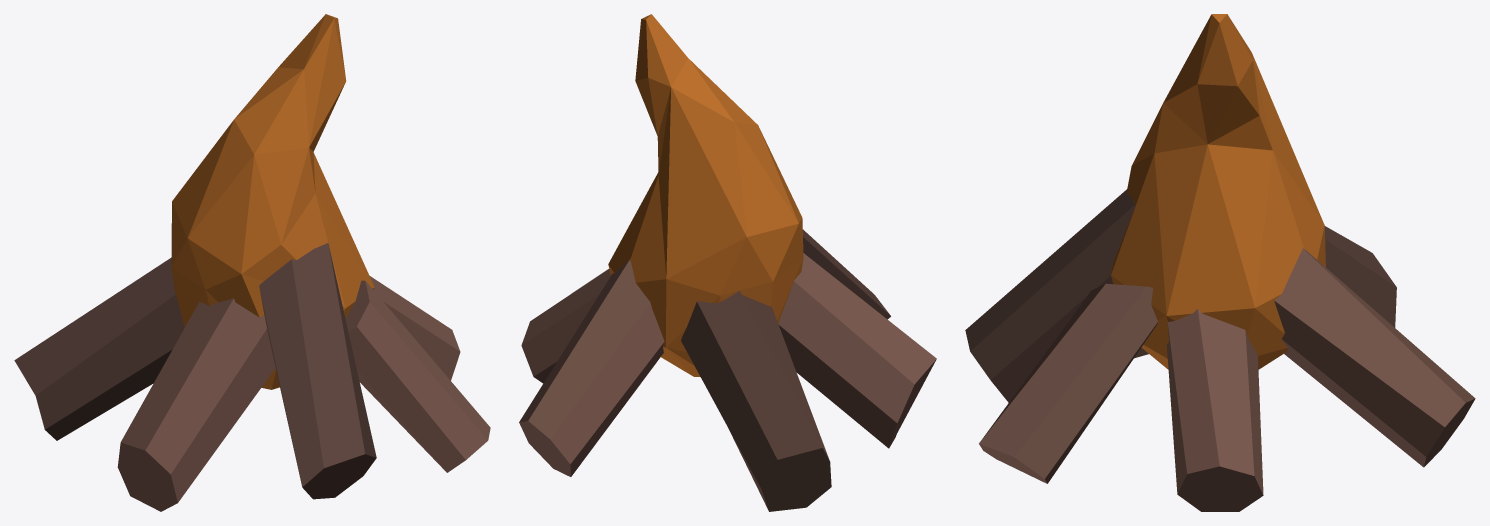
File: Woodfire.glb
3 renders of one model, left to right at view 1: azimuth 30°, elevation 25°; view 2: azimuth 150°, elevation 25°; view 3: azimuth 270°, elevation 25°, orthographic. The views are drawn at different scales.
Parts seen in each view (by area): view 1: Woodfire; view 2: Woodfire; view 3: Woodfire.
Part boxes in pixels (left/top/right/bottom): Woodfire: left=14, top=14, right=490, bottom=511; Woodfire: left=519, top=14, right=936, bottom=511; Woodfire: left=965, top=14, right=1475, bottom=511.
Bounding box in the file's own units: 0.3876 × 0.4139 × 0.4131.
